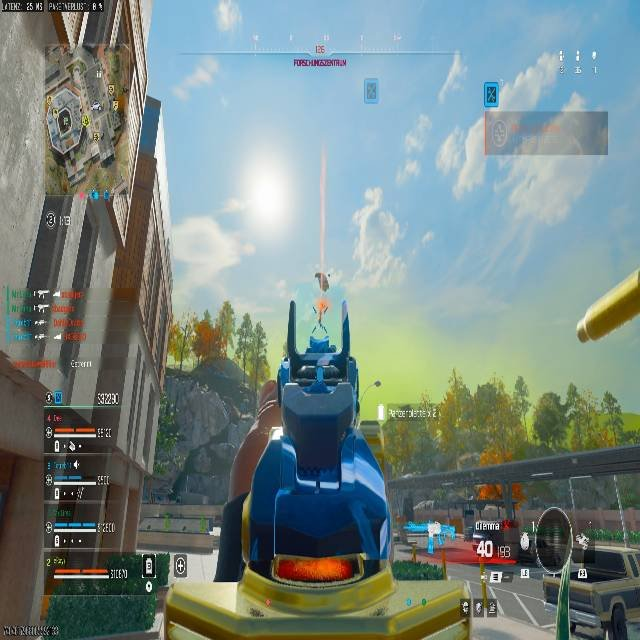player: (346, 185, 405, 292)
